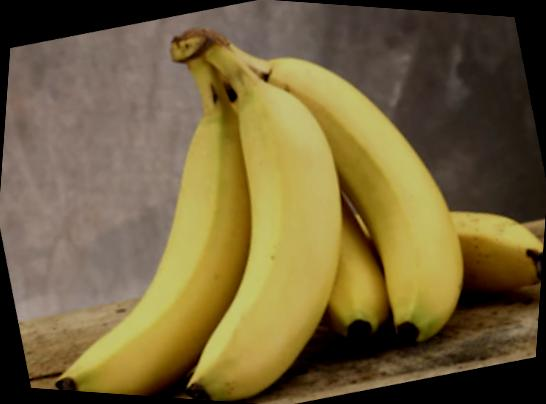Banana Ripe: (34, 0, 546, 404)
